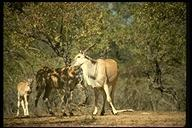antelope: (68, 43, 121, 115), (14, 77, 37, 118)
tree: (121, 3, 184, 109), (13, 3, 111, 57)
